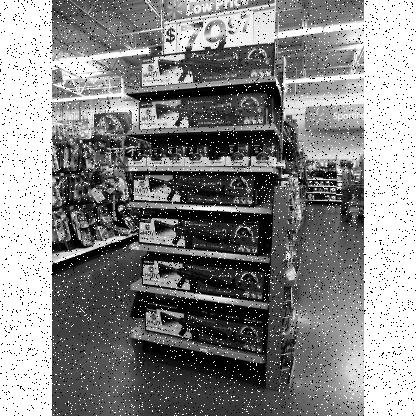gun: (156, 50, 254, 82), (154, 94, 246, 127), (156, 310, 248, 342), (146, 174, 238, 204), (156, 262, 246, 290), (152, 220, 236, 246)
